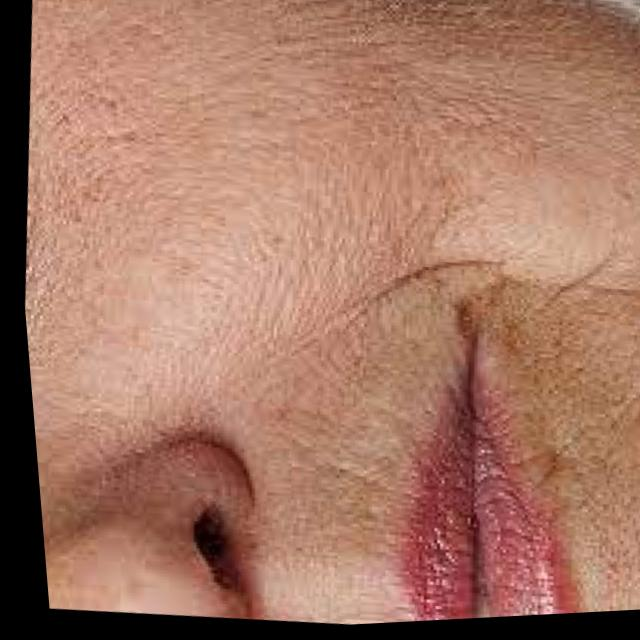Wrinkles: (252, 256, 640, 362)
